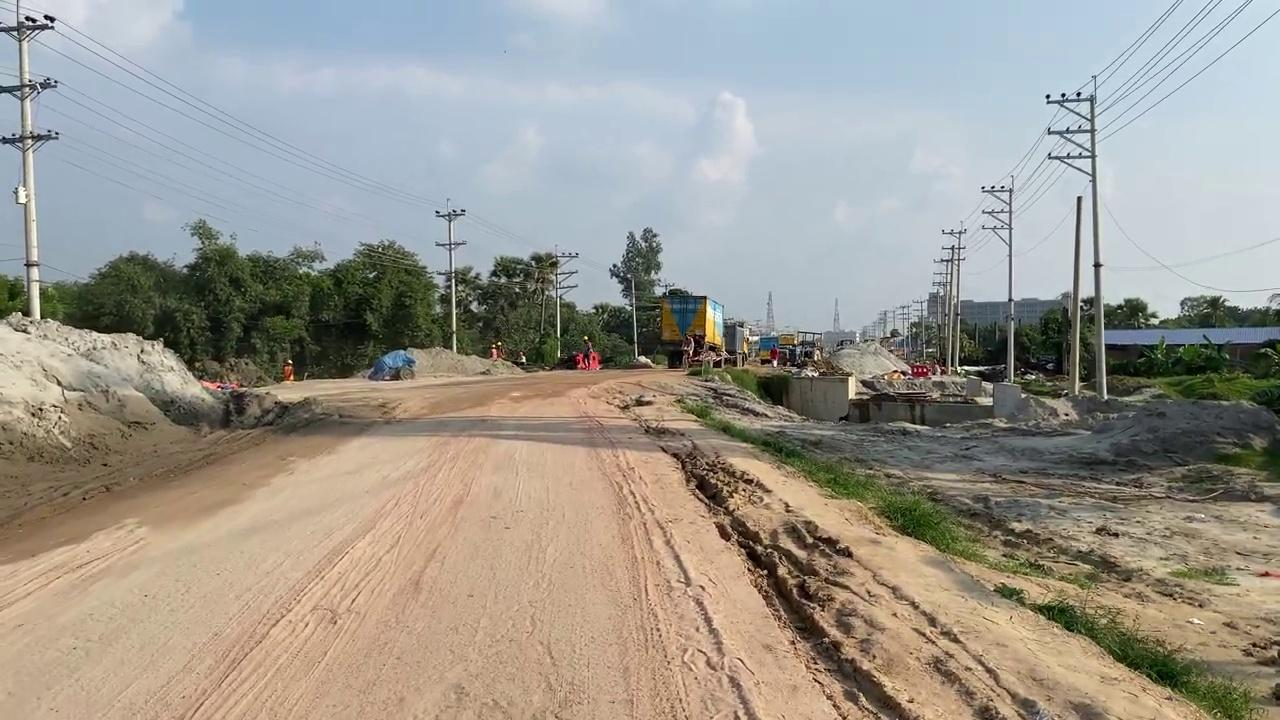Garbage: (367, 349, 416, 380)
Muddy road: (2, 364, 1263, 718)
Obstacle: (848, 371, 993, 425), (991, 381, 1022, 417)
Pole: (1068, 194, 1083, 395), (629, 274, 638, 359)
Traffic-sign: (608, 225, 663, 359)
Tree: (657, 288, 726, 367), (757, 330, 822, 367)
